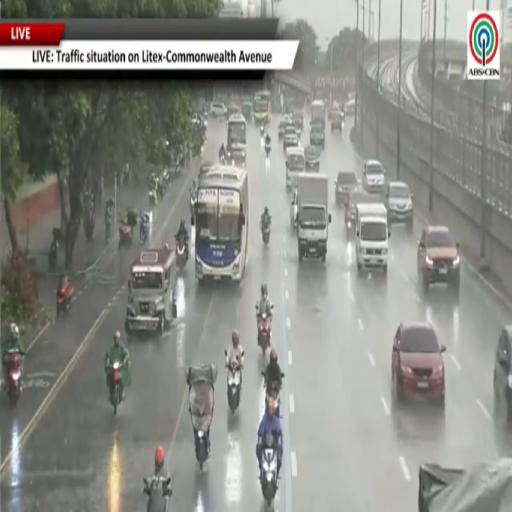bus: (192, 165, 248, 281), (228, 114, 246, 166), (254, 91, 271, 123), (311, 100, 326, 130)
car: (392, 323, 446, 406), (417, 226, 460, 293), (345, 184, 382, 235), (493, 326, 511, 423), (386, 181, 413, 230), (363, 159, 386, 193), (335, 172, 357, 206), (283, 125, 299, 152), (305, 146, 320, 171), (310, 124, 324, 148), (198, 162, 212, 184), (209, 102, 227, 118), (331, 110, 344, 132), (290, 189, 297, 229), (279, 117, 291, 139), (292, 109, 303, 133), (343, 99, 355, 115), (328, 103, 339, 120), (228, 104, 241, 118)
jeepney: (125, 247, 176, 335)
motorcycle: (187, 365, 217, 470), (261, 441, 278, 508), (144, 477, 172, 511), (5, 352, 22, 406), (262, 372, 280, 415), (227, 360, 241, 413), (110, 361, 122, 415), (57, 282, 74, 316), (258, 312, 270, 357), (48, 228, 60, 271), (105, 198, 115, 242), (176, 236, 188, 269), (49, 239, 58, 271), (140, 222, 150, 246), (262, 222, 270, 246), (105, 211, 111, 242), (158, 178, 166, 198), (190, 189, 196, 215), (149, 188, 157, 205), (227, 151, 235, 165), (265, 142, 270, 156), (220, 154, 226, 165), (260, 123, 264, 135)
truck: (297, 173, 331, 262)
